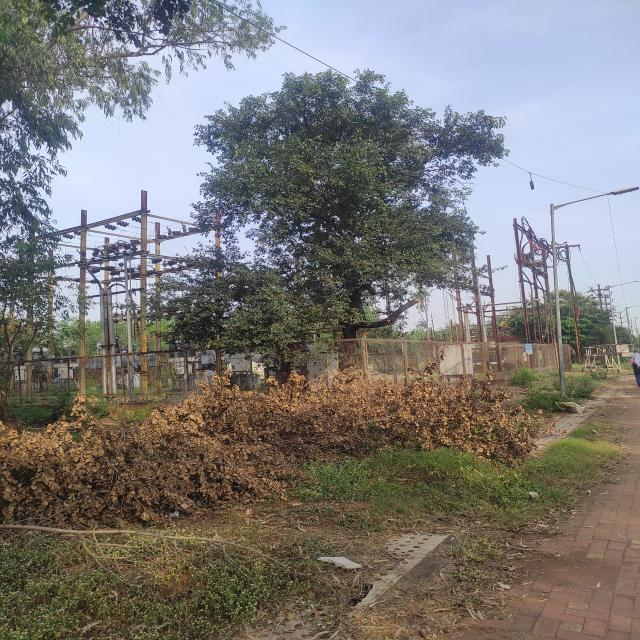Devakanchan tree: (206, 84, 481, 366)
